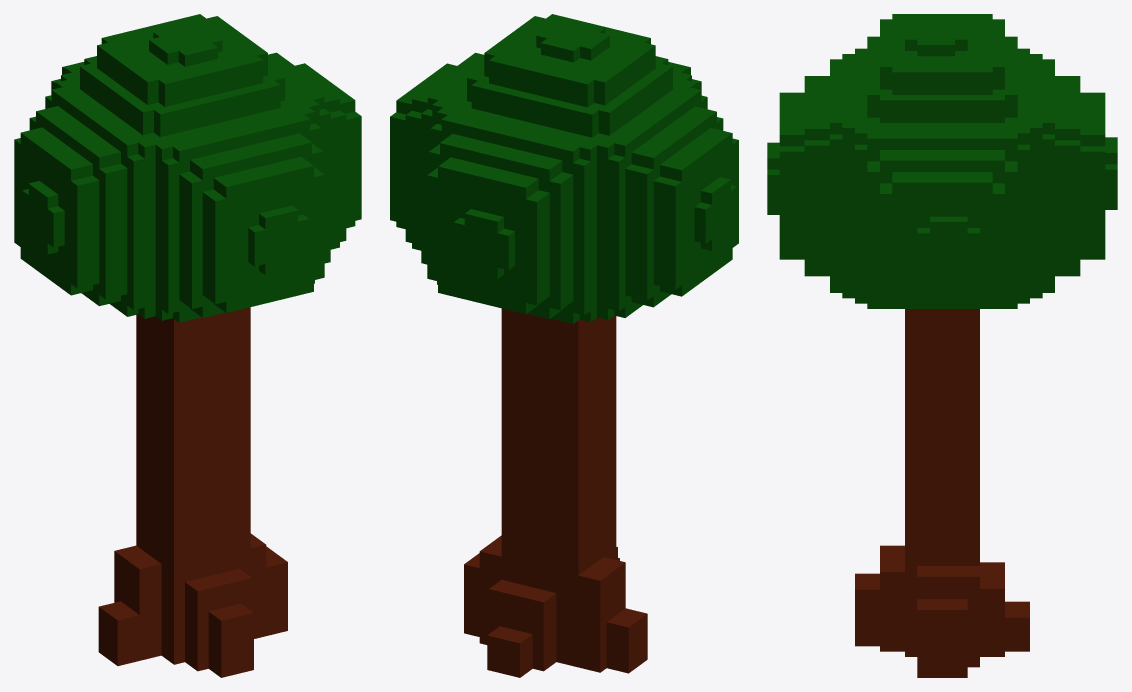
File: Tree_02.obj
3 views of the same model, side by side, from view 1: azimuth 30°, elevation 25°; view 2: azimuth 150°, elevation 25°; view 3: azimuth 270°, elevation 25° (orthographic).
Bounding box in the file's own units: 2.8 × 5.3 × 2.8.
Materials: 1 (1 with a texture image).
